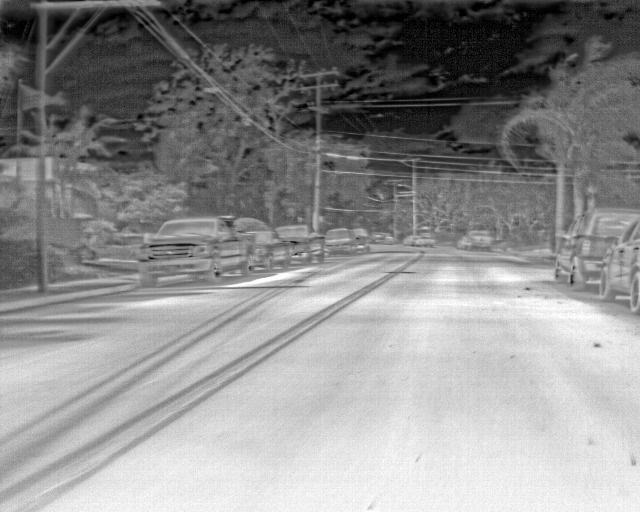car: (140, 216, 247, 288), (552, 206, 639, 293), (597, 211, 639, 314), (277, 222, 324, 265), (240, 228, 288, 270), (326, 225, 355, 257), (456, 229, 493, 251), (356, 228, 373, 254), (414, 234, 436, 248), (371, 230, 384, 245), (384, 230, 395, 244)
